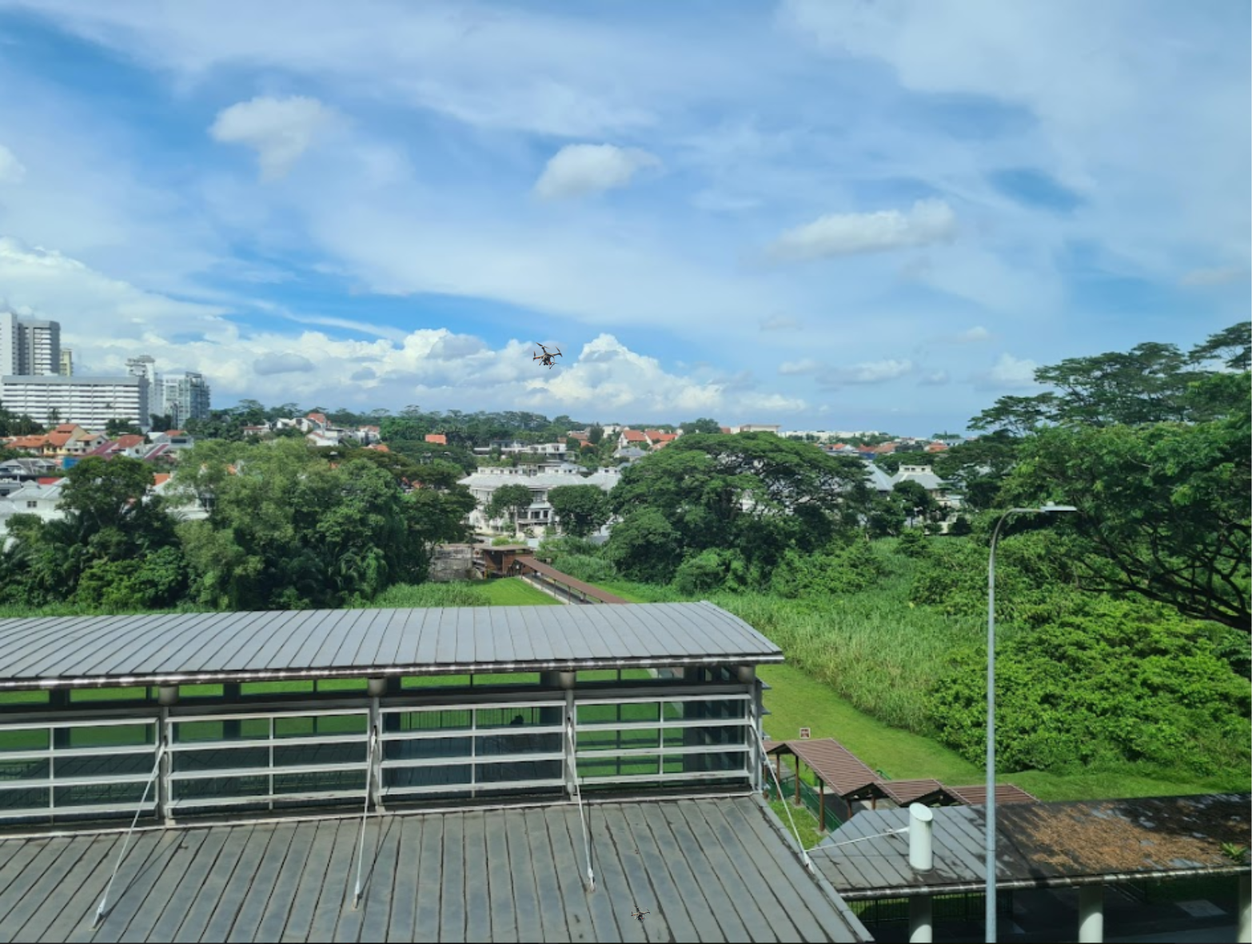drone_other: (525, 337, 566, 371)
